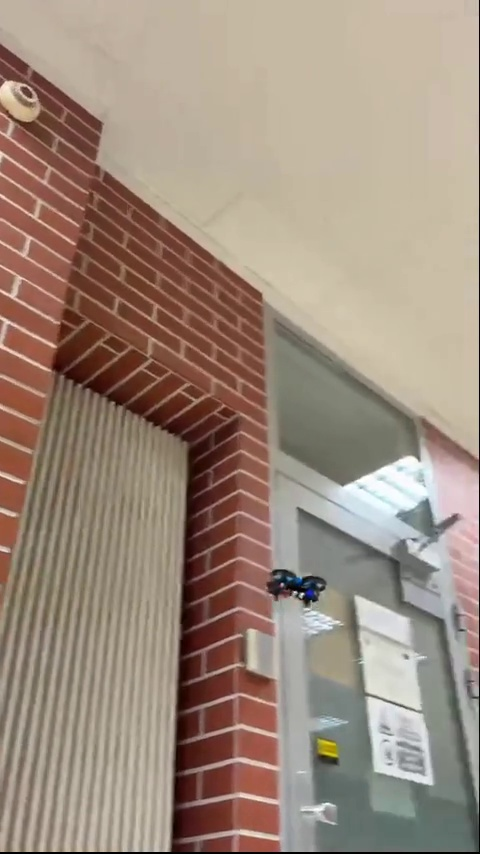drone: (270, 569, 328, 600)
